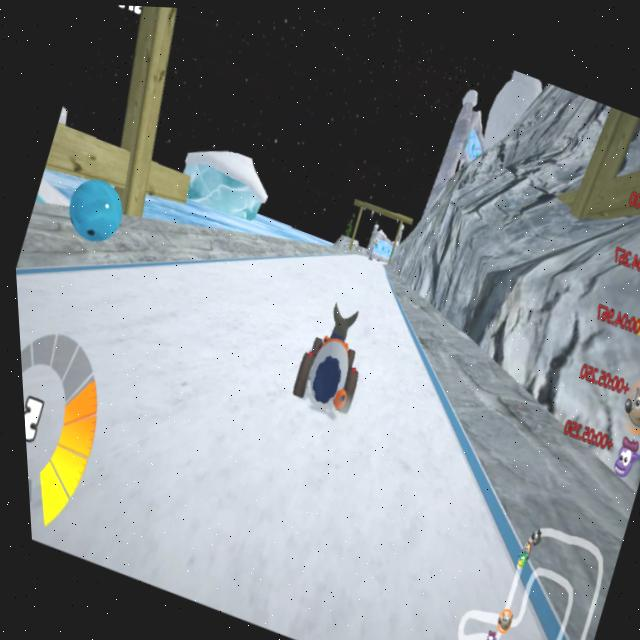player_kart: (277, 295, 380, 421)
track: (312, 229, 398, 311)
